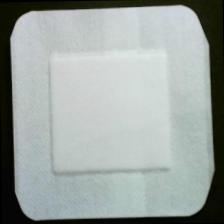Dressing: (9, 5, 218, 223)
